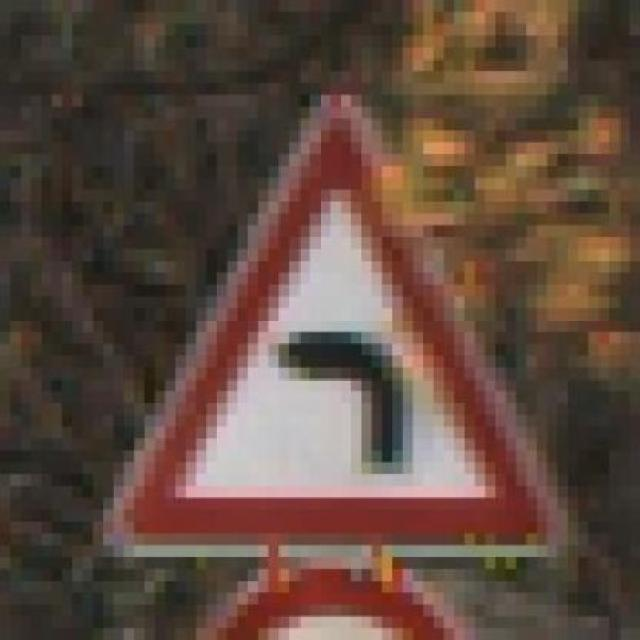Dangerous Left Curve Ahead: (72, 96, 578, 558)
